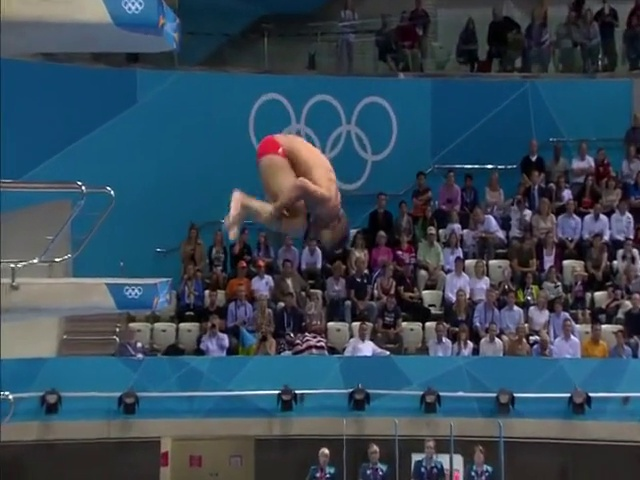diver: (224, 134, 350, 253)
